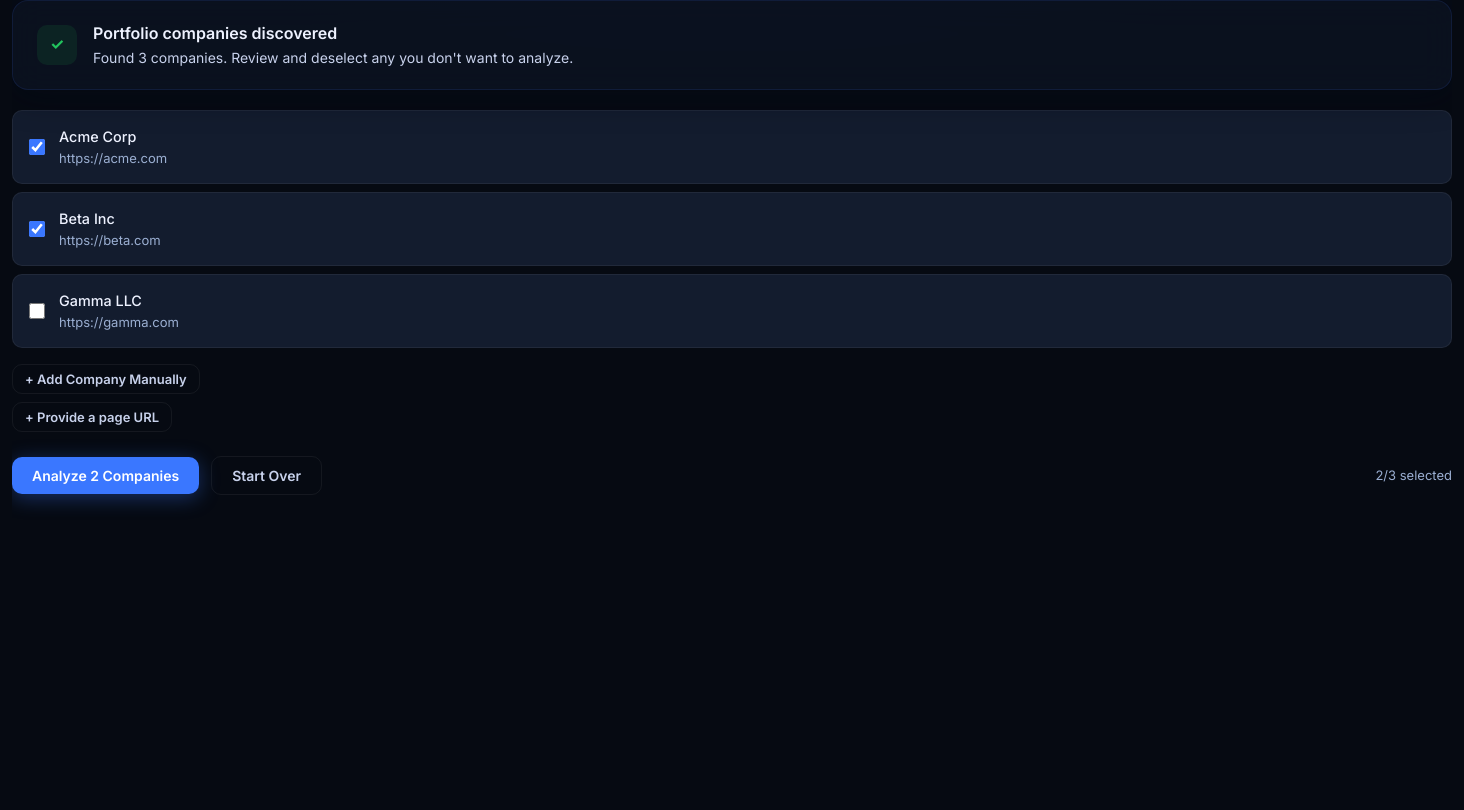
Test case: PortfolioConfirmPhase › manual company addition › shows error when name is empty
Click the button "+ Add Company Manually" at (106, 378), box [12,364,200,394]
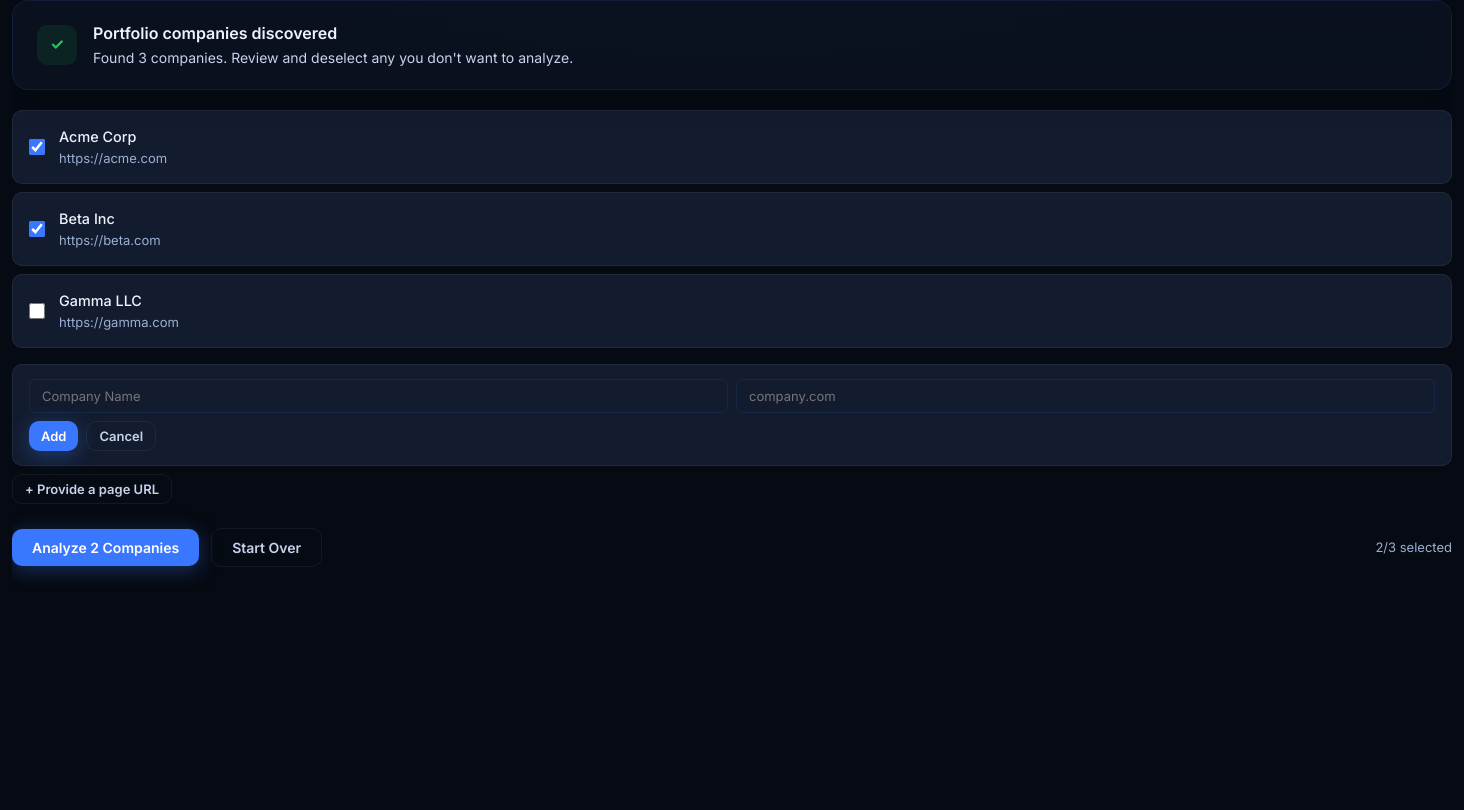
Type "https://newcorp.com" into the field named "Company URL" at (1086, 396), box [736,378,1435,412]
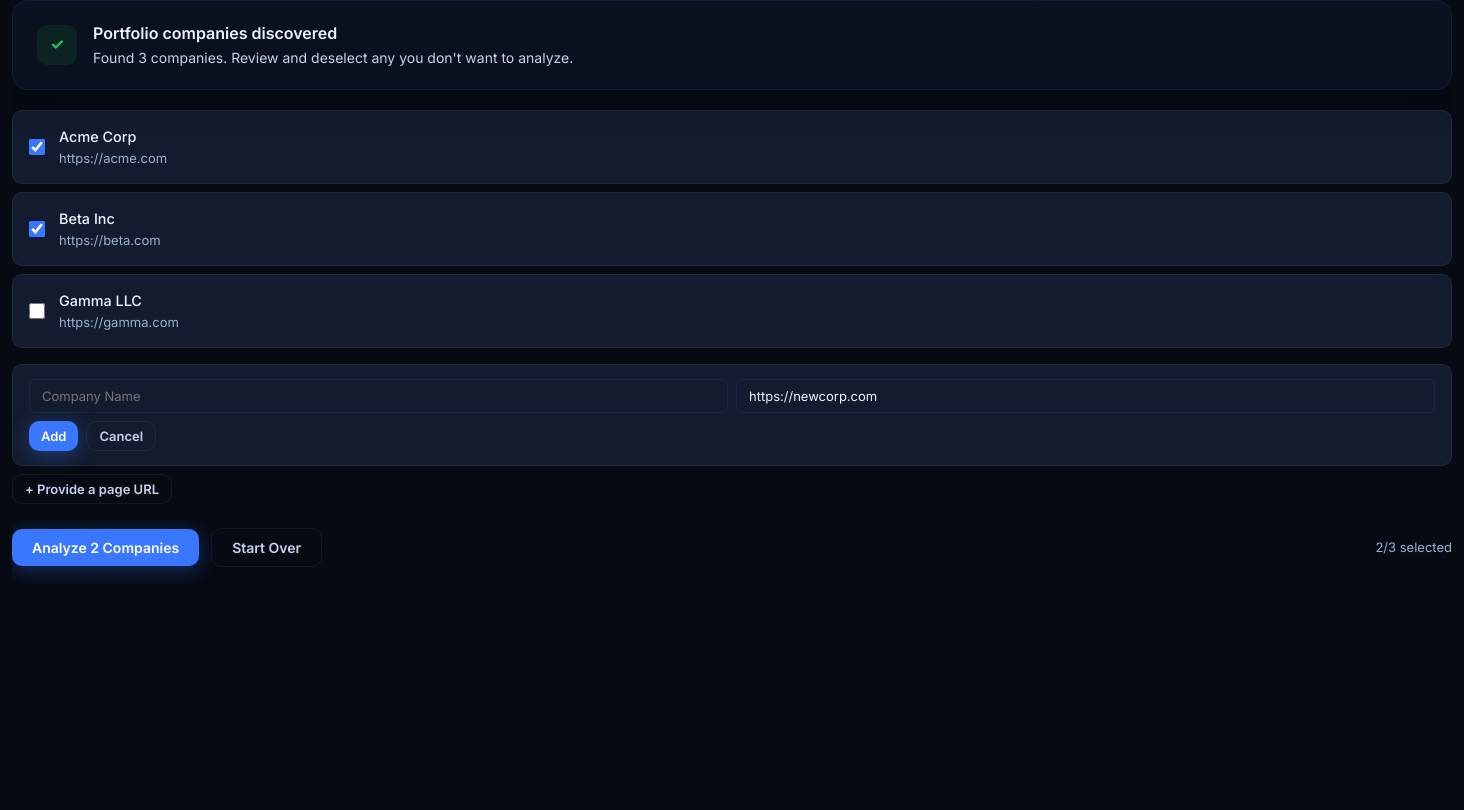
Click the button "Add" at (54, 436), box [29,420,78,450]
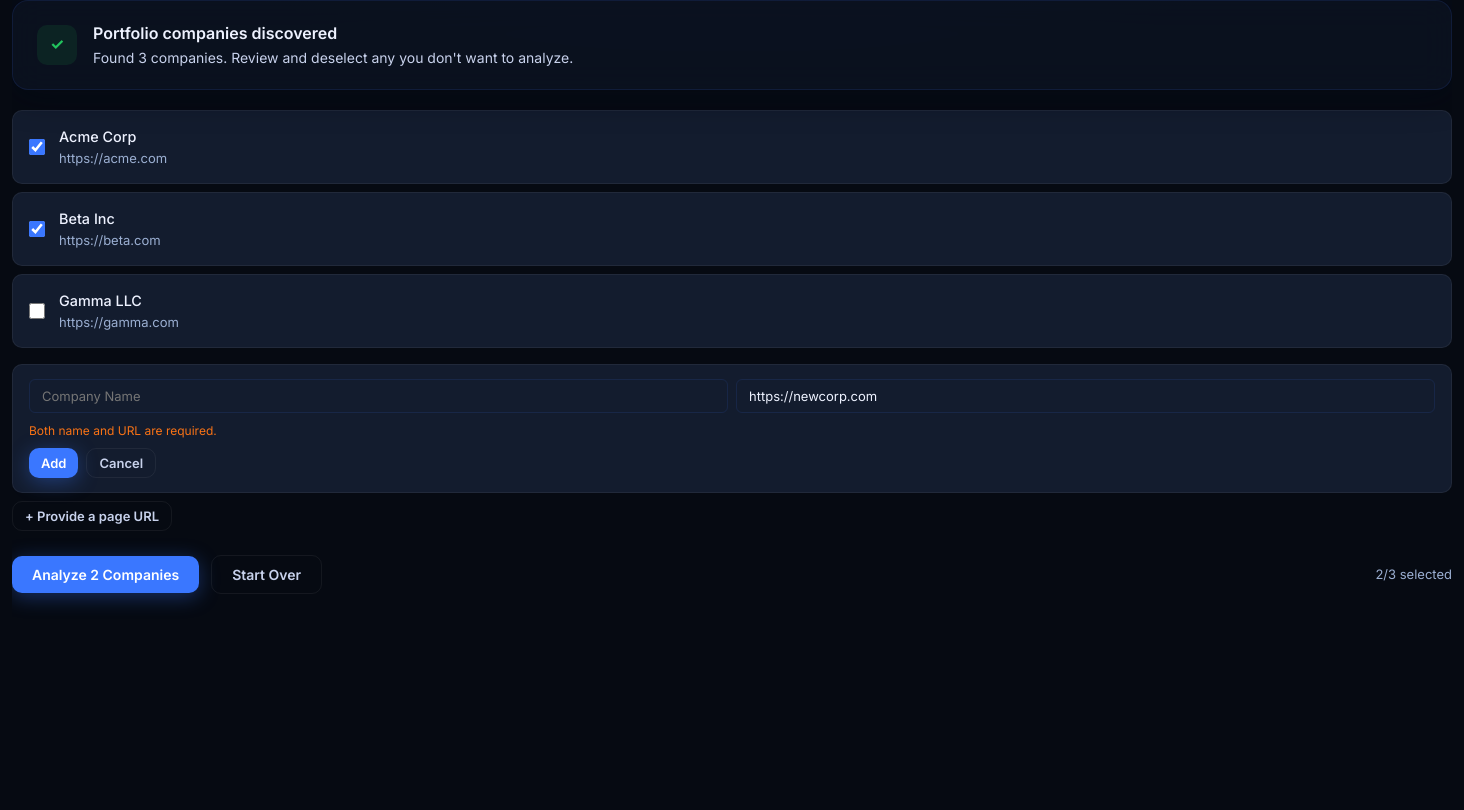
Now the text "Both name and URL are required." is shown, box [29,422,217,438]
